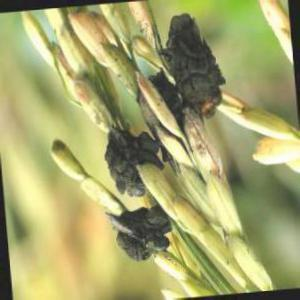Leaf_Scald: (156, 22, 221, 110), (106, 124, 154, 194), (115, 212, 171, 266)
